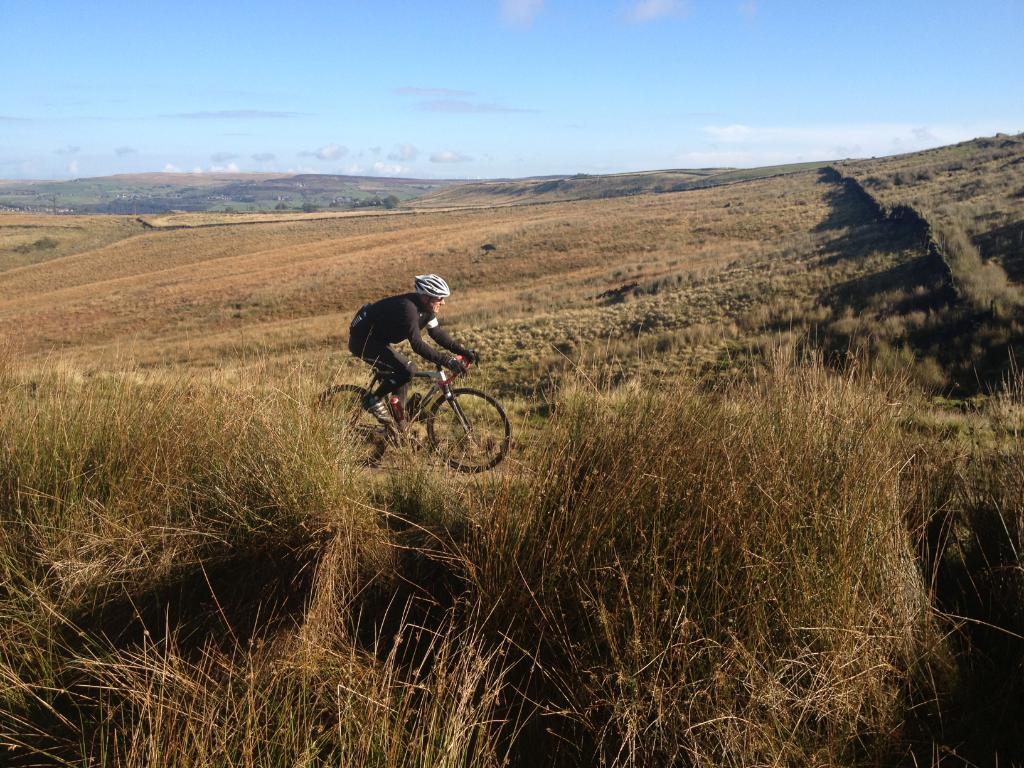Bike_toward: (304, 340, 495, 467)
